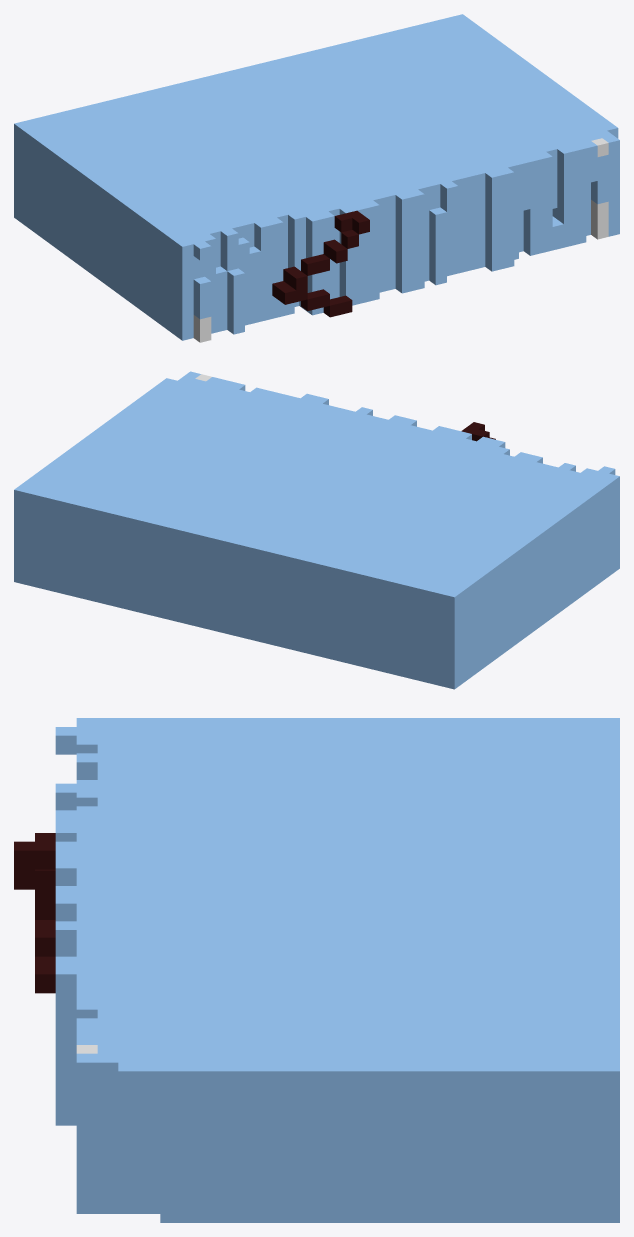
The model's file is snow3.obj.
3 renders of one model, top to bottom at view 1: azimuth 30°, elevation 25°; view 2: azimuth 150°, elevation 25°; view 3: azimuth 270°, elevation 25°, orthographic. The views are drawn at different scales.
Size of the model in its own units: 4 by 0.8 by 2.9.
Materials: 1 (1 with a texture image).
